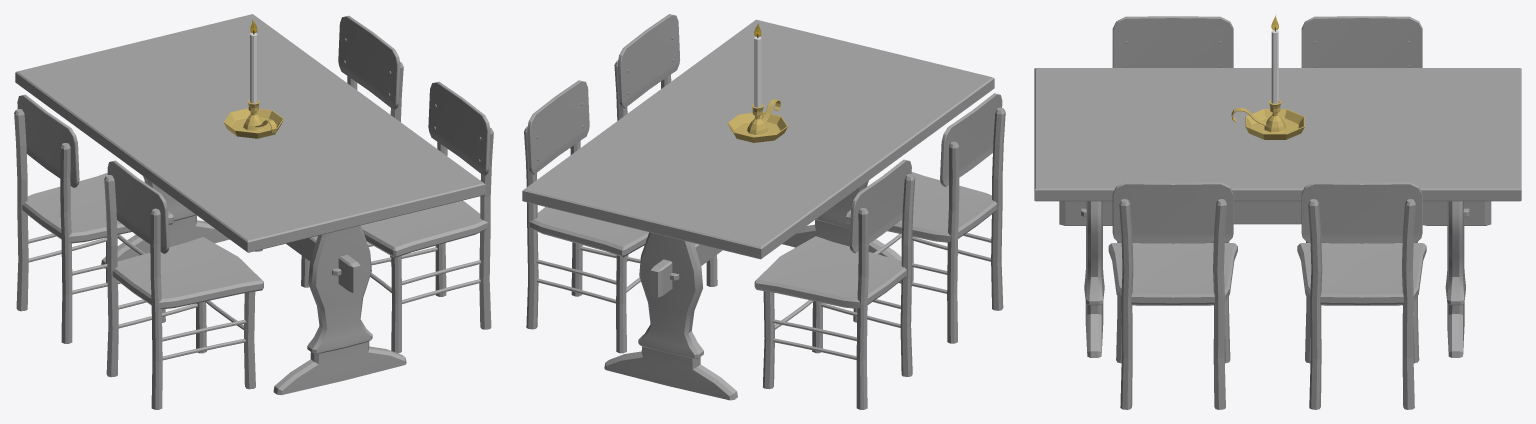
Rendered from Simple_Table.fbx.
3 views of the same model, side by side, from view 1: azimuth 30°, elevation 25°; view 2: azimuth 150°, elevation 25°; view 3: azimuth 270°, elevation 25° (orthographic). The views are drawn at different scales.
Parts seen in each view (by area): view 1: pCube1, pCube38, pCube36, pCube39, pCube2, pCube37, pCube3, pCube40, pCube4, pCube19; view 2: pCube1, pCube39, pCube38, pCube37, pCube3, pCube36, pCube2, pCube40, pCube4, pCube19; view 3: pCube1, pCube37, pCube36, pCube38, pCube39, pCube4, pCube3, pCube2, pCube40, pCube19.
Boxes of the visible parts, x1=… form: pCube1: x1=15, y1=14, x2=485, y2=252; pCube38: x1=104, y1=160, x2=263, y2=409; pCube36: x1=361, y1=81, x2=493, y2=353; pCube39: x1=14, y1=94, x2=173, y2=343; pCube2: x1=273, y1=225, x2=406, y2=395; pCube37: x1=255, y1=15, x2=403, y2=287; pCube3: x1=101, y1=176, x2=229, y2=268; pCube40: x1=223, y1=100, x2=283, y2=138; pCube4: x1=286, y1=236, x2=360, y2=292; pCube19: x1=250, y1=30, x2=257, y2=103; pCube1: x1=522, y1=19, x2=994, y2=259; pCube39: x1=754, y1=159, x2=915, y2=409; pCube38: x1=845, y1=93, x2=1005, y2=343; pCube37: x1=524, y1=80, x2=648, y2=353; pCube3: x1=604, y1=232, x2=737, y2=400; pCube36: x1=614, y1=14, x2=717, y2=286; pCube2: x1=782, y1=180, x2=901, y2=260; pCube40: x1=727, y1=99, x2=787, y2=142; pCube4: x1=650, y1=243, x2=722, y2=297; pCube19: x1=754, y1=34, x2=761, y2=107; pCube1: x1=1034, y1=68, x2=1521, y2=201; pCube37: x1=1297, y1=182, x2=1426, y2=409; pCube36: x1=1108, y1=182, x2=1237, y2=409; pCube38: x1=1112, y1=16, x2=1233, y2=242; pCube39: x1=1301, y1=16, x2=1422, y2=242; pCube4: x1=1059, y1=201, x2=1491, y2=225; pCube3: x1=1445, y1=201, x2=1465, y2=357; pCube2: x1=1084, y1=201, x2=1104, y2=357; pCube40: x1=1231, y1=100, x2=1304, y2=139; pCube19: x1=1271, y1=27, x2=1278, y2=103.
Size of the model in its own units: 7.9 by 6.54 by 9.3.
